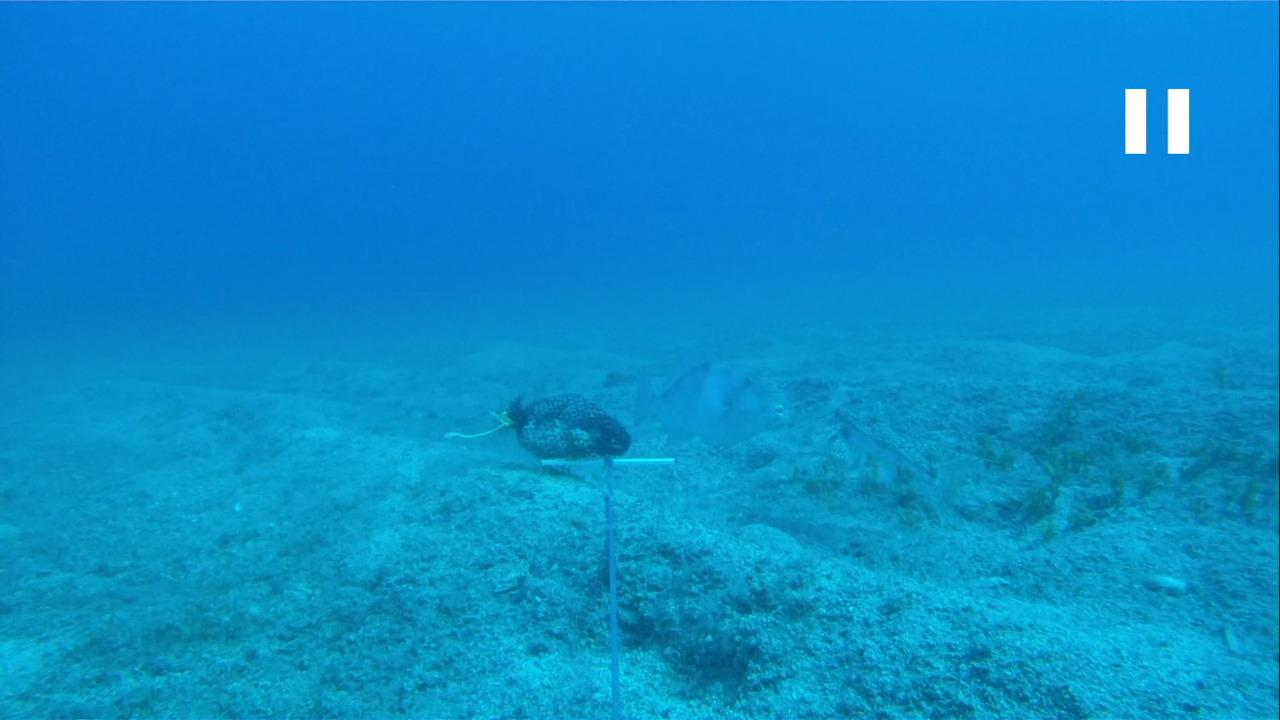balistes: (621, 359, 789, 456)
dactylopterus: (828, 394, 985, 531)
